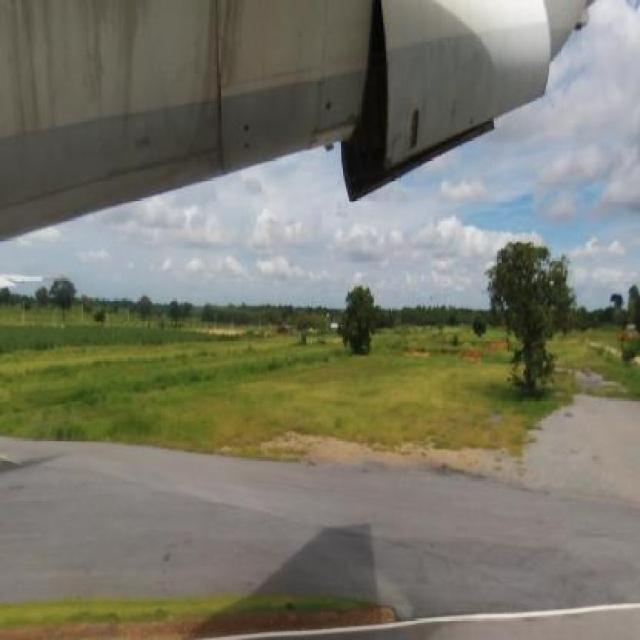Rust: (73, 1, 161, 144), (2, 1, 72, 150), (183, 2, 246, 160), (284, 5, 336, 150), (386, 42, 434, 162)
